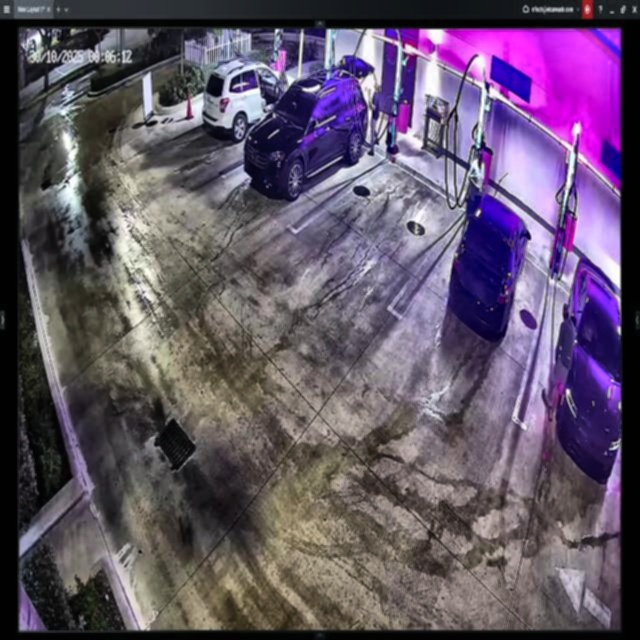Car: (241, 69, 372, 204), (451, 196, 532, 340)
